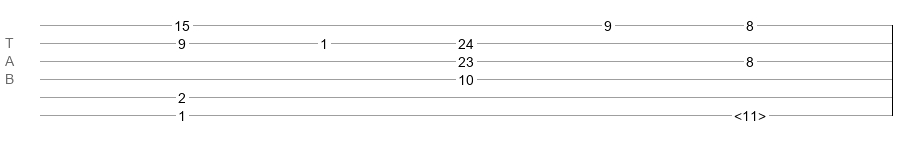1: (178, 108, 186, 118), (320, 36, 328, 46)
10: (458, 72, 474, 82)
15: (174, 18, 190, 28)
2: (178, 90, 186, 100)
23: (458, 54, 474, 64)
24: (458, 36, 474, 46)
8: (746, 18, 754, 28), (746, 54, 754, 64)
9: (178, 36, 186, 46), (604, 18, 612, 28)
harmonic: (734, 108, 766, 118)
